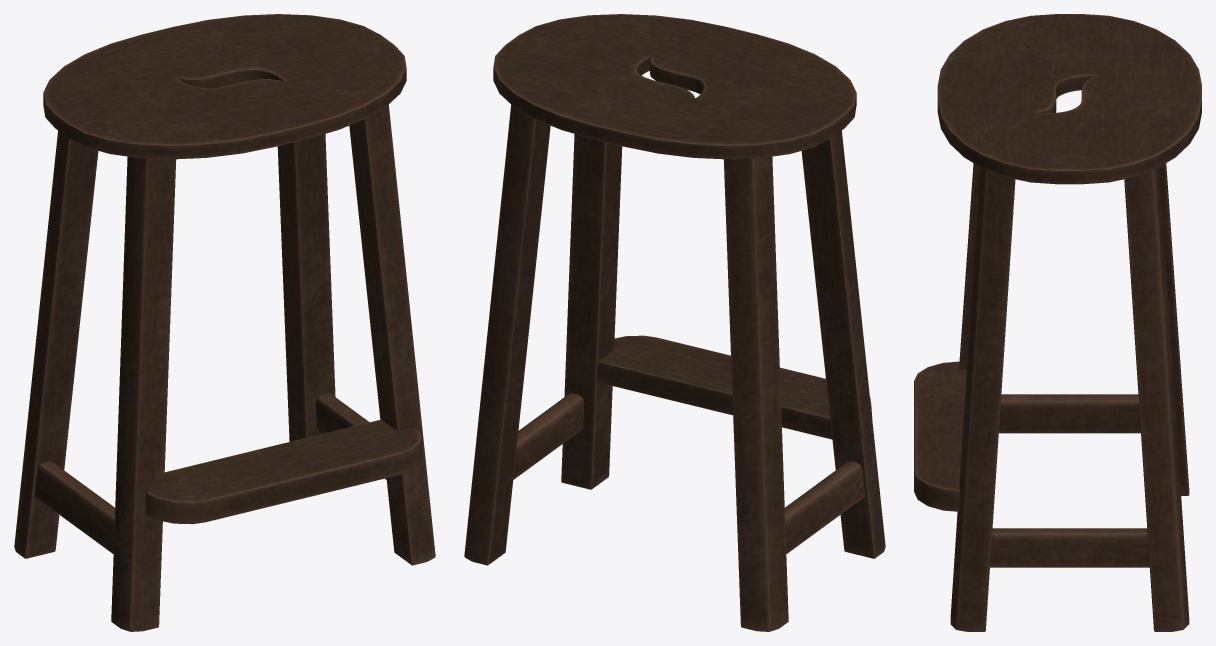
File: st_stool_6.gltf
3 renders of one model, left to right at view 1: azimuth 30°, elevation 25°; view 2: azimuth 150°, elevation 25°; view 3: azimuth 270°, elevation 25°, orthographic.
Parts seen in each view (by area): view 1: pub_stool.003, pub_stool.001, pub_stool, pub_stool.004; view 2: pub_stool.003, pub_stool.001, pub_stool, pub_stool.004; view 3: pub_stool.003, pub_stool.001, pub_stool.004, pub_stool.
Part boxes in pixels (bbox=[...]): pub_stool.003: bbox=[14, 104, 435, 631]; pub_stool.001: bbox=[43, 14, 406, 159]; pub_stool: bbox=[145, 419, 422, 524]; pub_stool.004: bbox=[34, 393, 386, 553]; pub_stool.003: bbox=[464, 104, 885, 631]; pub_stool.001: bbox=[493, 14, 856, 159]; pub_stool: bbox=[597, 335, 872, 439]; pub_stool.004: bbox=[513, 393, 865, 553]; pub_stool.003: bbox=[950, 163, 1189, 631]; pub_stool.001: bbox=[937, 14, 1201, 184]; pub_stool.004: bbox=[990, 394, 1149, 567]; pub_stool: bbox=[914, 361, 966, 511].
Size of what is drawn, in the model's own units: 0.3479 by 0.4815 by 0.2701.
Materials: 1 (1 with a texture image).
